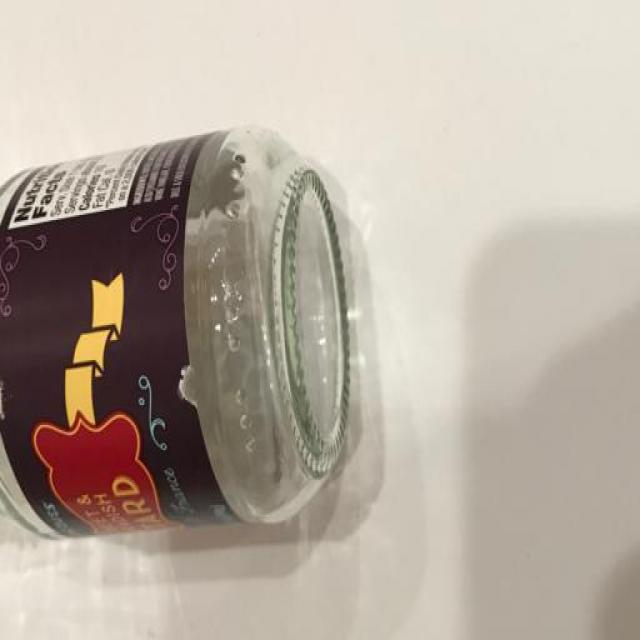glass: (1, 134, 357, 640)
